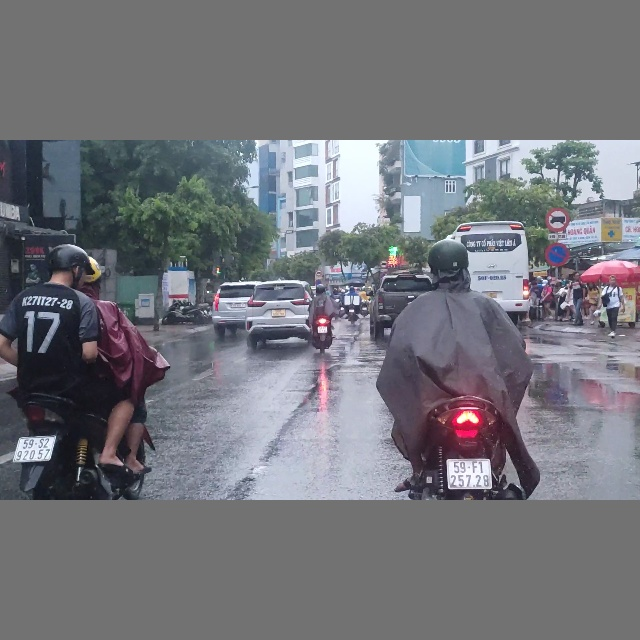P.106a*Xe tai: (546, 207, 570, 232), (379, 259, 388, 268), (316, 270, 323, 276)
P.131a: (545, 241, 569, 266)
